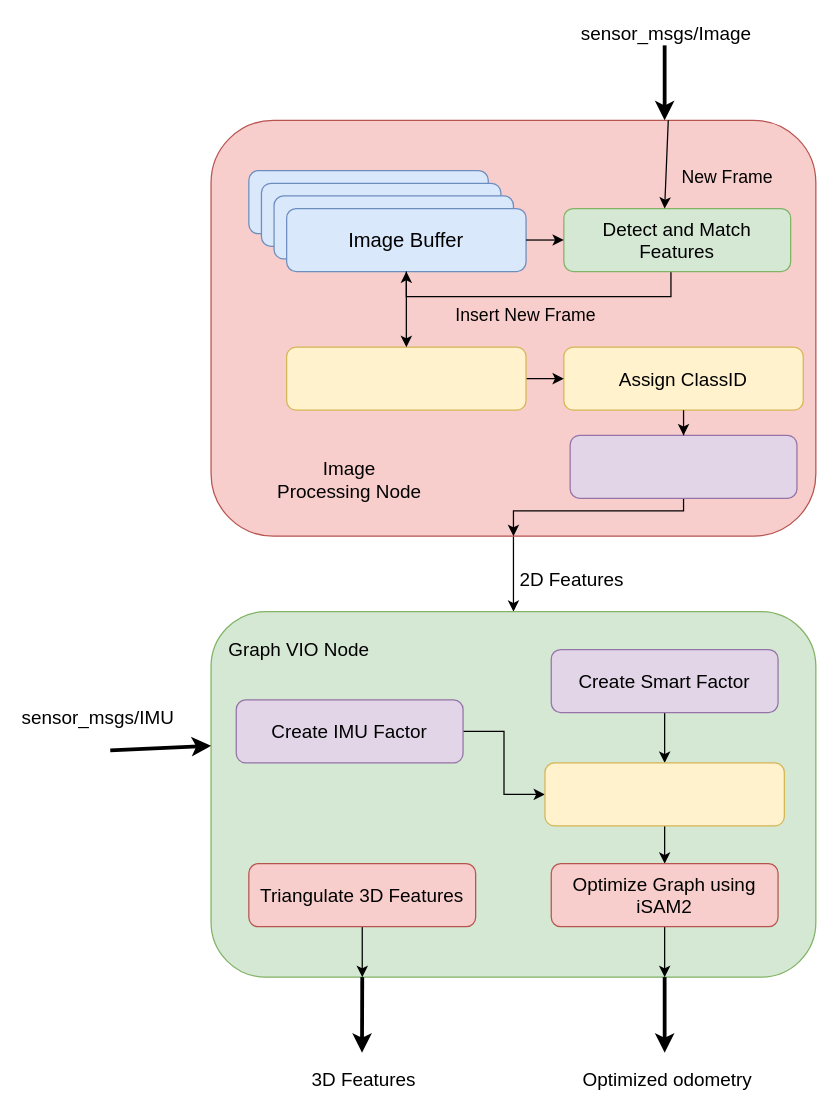
Some shapes in this 838 by 1113 pixel diagram are drawn without their labels. The shapes that lost their labels are listed below. From the top down, each one's centre as x and y in pixels, then its label:
At point (405, 378): "RANSAC".
At point (683, 466): "Publish Features with Class ID".
At point (664, 794): "Insert Factors in Graph".
